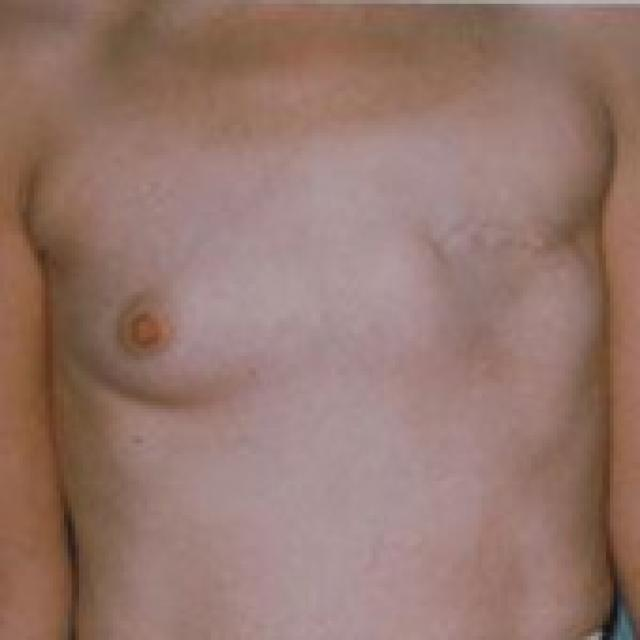Seno herido: (334, 145, 618, 390)
Seno ileso: (38, 188, 330, 434)
